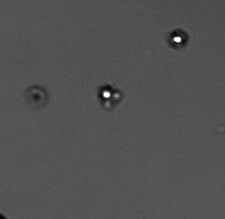Dead Cell: (27, 87, 48, 106)
Living Cell: (168, 29, 187, 47), (98, 85, 114, 101)
